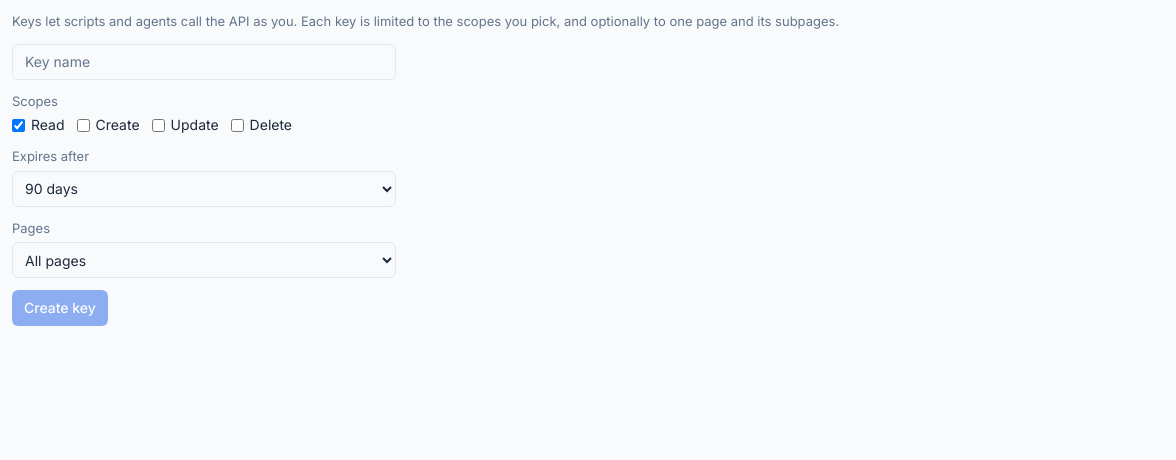
Test case: ApiKeysSection › maps a server error code to a message
The image size is (1176, 460).
Type "x" into the field with test id "api-key-name".
click(204, 62); type("x")  # box 12,44 -> 396,80
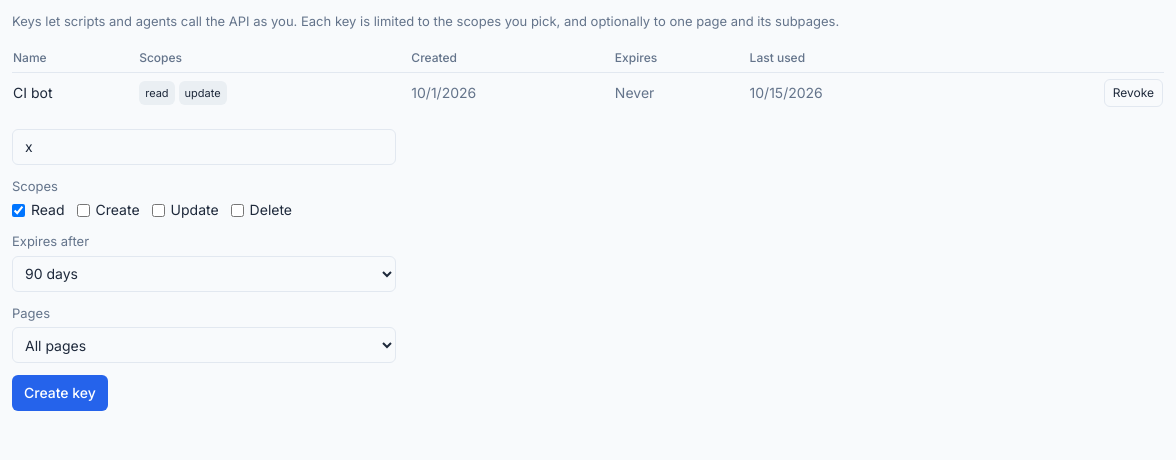
Click the button with test id "api-key-submit".
click(60, 393)  # box 12,375 -> 108,411
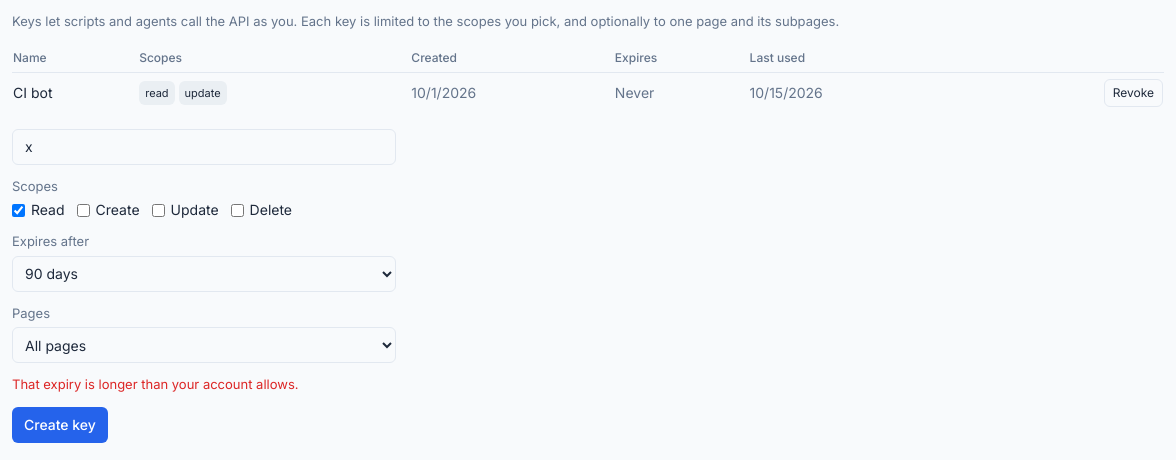
expect the message with test id "api-key-error" shows "longer than your account allows": met, box 12,376 -> 298,392
